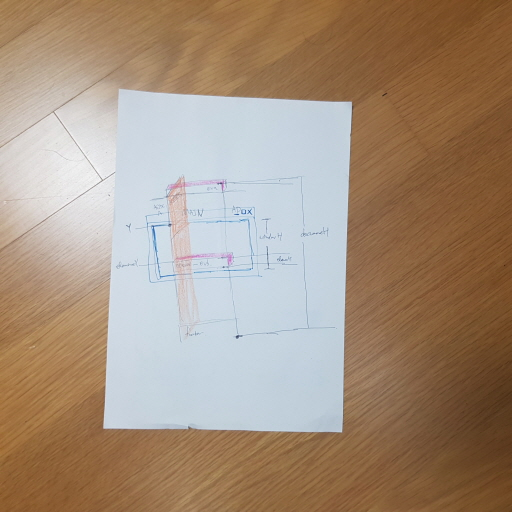Paper_2: (107, 78, 362, 442)
